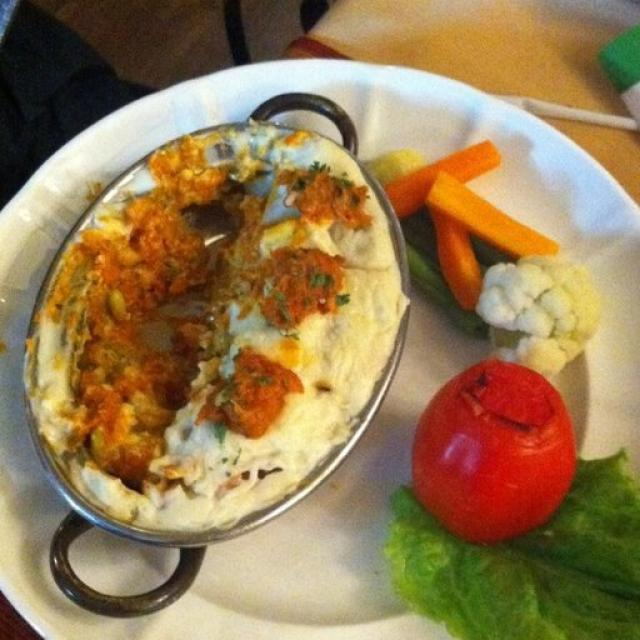Lasagna: (48, 109, 370, 487)
